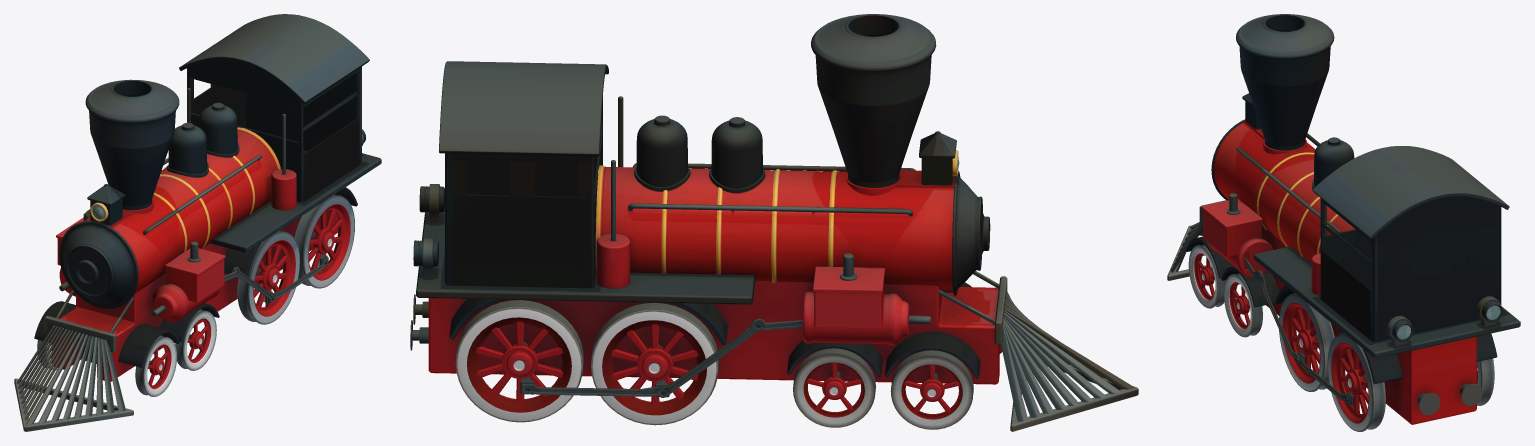
The model's file is maquina.fbx.
The picture shows the model from 3 angles, left to right: view 1: azimuth 30°, elevation 25°; view 2: azimuth 150°, elevation 25°; view 3: azimuth 270°, elevation 25°; orthographic projection. The views are drawn at different scales.
Visible parts, largest first — view 1: node_id30; view 2: node_id30; view 3: node_id30.
Part boxes in pixels (bbox=[...]): node_id30: bbox=[14, 14, 381, 431]; node_id30: bbox=[410, 14, 1138, 431]; node_id30: bbox=[1167, 14, 1520, 431].
Size of the model in its own units: 0.867 by 0.512 by 0.5685.
Materials: 1 (1 with a texture image).
